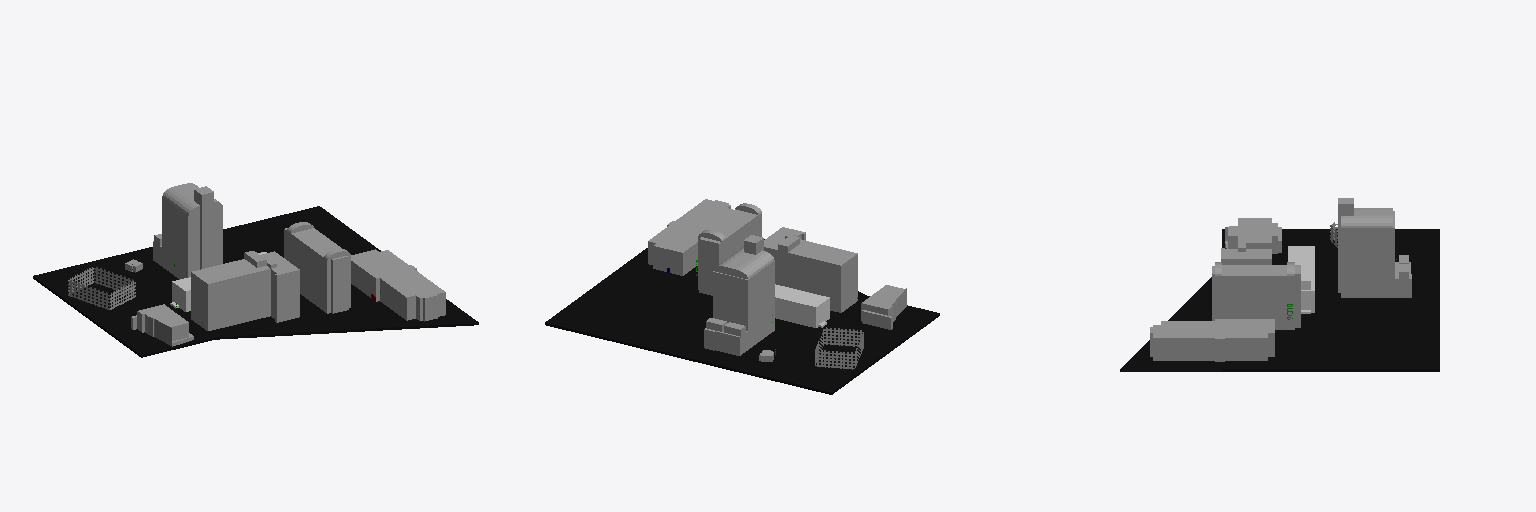
File: free_map7.obj
The picture shows the model from 3 angles: view 1: azimuth 30°, elevation 25°; view 2: azimuth 150°, elevation 25°; view 3: azimuth 270°, elevation 25°; orthographic projection.
Parts seen in each view (by area): view 1: Cube.009, Cube.004, Cube.006, Cube.001, Cube.002, Cube.005, Cube.008, Cube.003; view 2: Cube.009, Cube.006, Cube.004, Cube.001, Cube.002, Cube.003, Cube.005, Cube.008; view 3: Cube.009, Cube.006, Cube.002, Cube.001, Cube.004, Cube.003, Cube.005.
Boxes of the visible parts, box(x1,y1,x2,y2) form: Cube.009: box(33, 206, 478, 357); Cube.004: box(191, 251, 299, 330); Cube.006: box(153, 183, 222, 279); Cube.001: box(351, 249, 445, 321); Cube.002: box(284, 222, 350, 313); Cube.005: box(131, 304, 193, 346); Cube.008: box(68, 267, 135, 309); Cube.003: box(170, 252, 266, 311); Cube.009: box(545, 239, 939, 394); Cube.006: box(704, 235, 774, 355); Cube.004: box(764, 227, 857, 312); Cube.001: box(648, 199, 733, 275); Cube.002: box(698, 203, 761, 295); Cube.003: box(775, 284, 829, 327); Cube.005: box(861, 285, 906, 329); Cube.008: box(815, 327, 863, 369); Cube.009: box(1120, 229, 1439, 371); Cube.006: box(1338, 198, 1411, 297); Cube.002: box(1212, 262, 1300, 329); Cube.001: box(1150, 319, 1274, 361); Cube.004: box(1221, 218, 1271, 264); Cube.003: box(1288, 246, 1314, 313); Cube.005: box(1225, 223, 1281, 253).
Bounding box in the file's own units: 246 × 75.13 × 237.